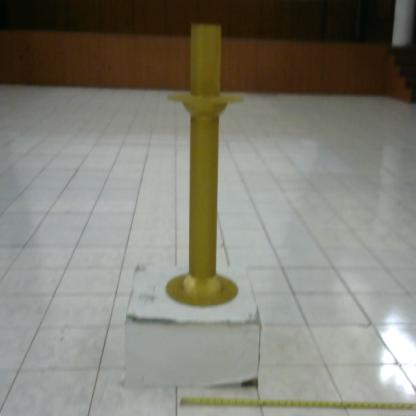pole: (160, 18, 252, 315)
